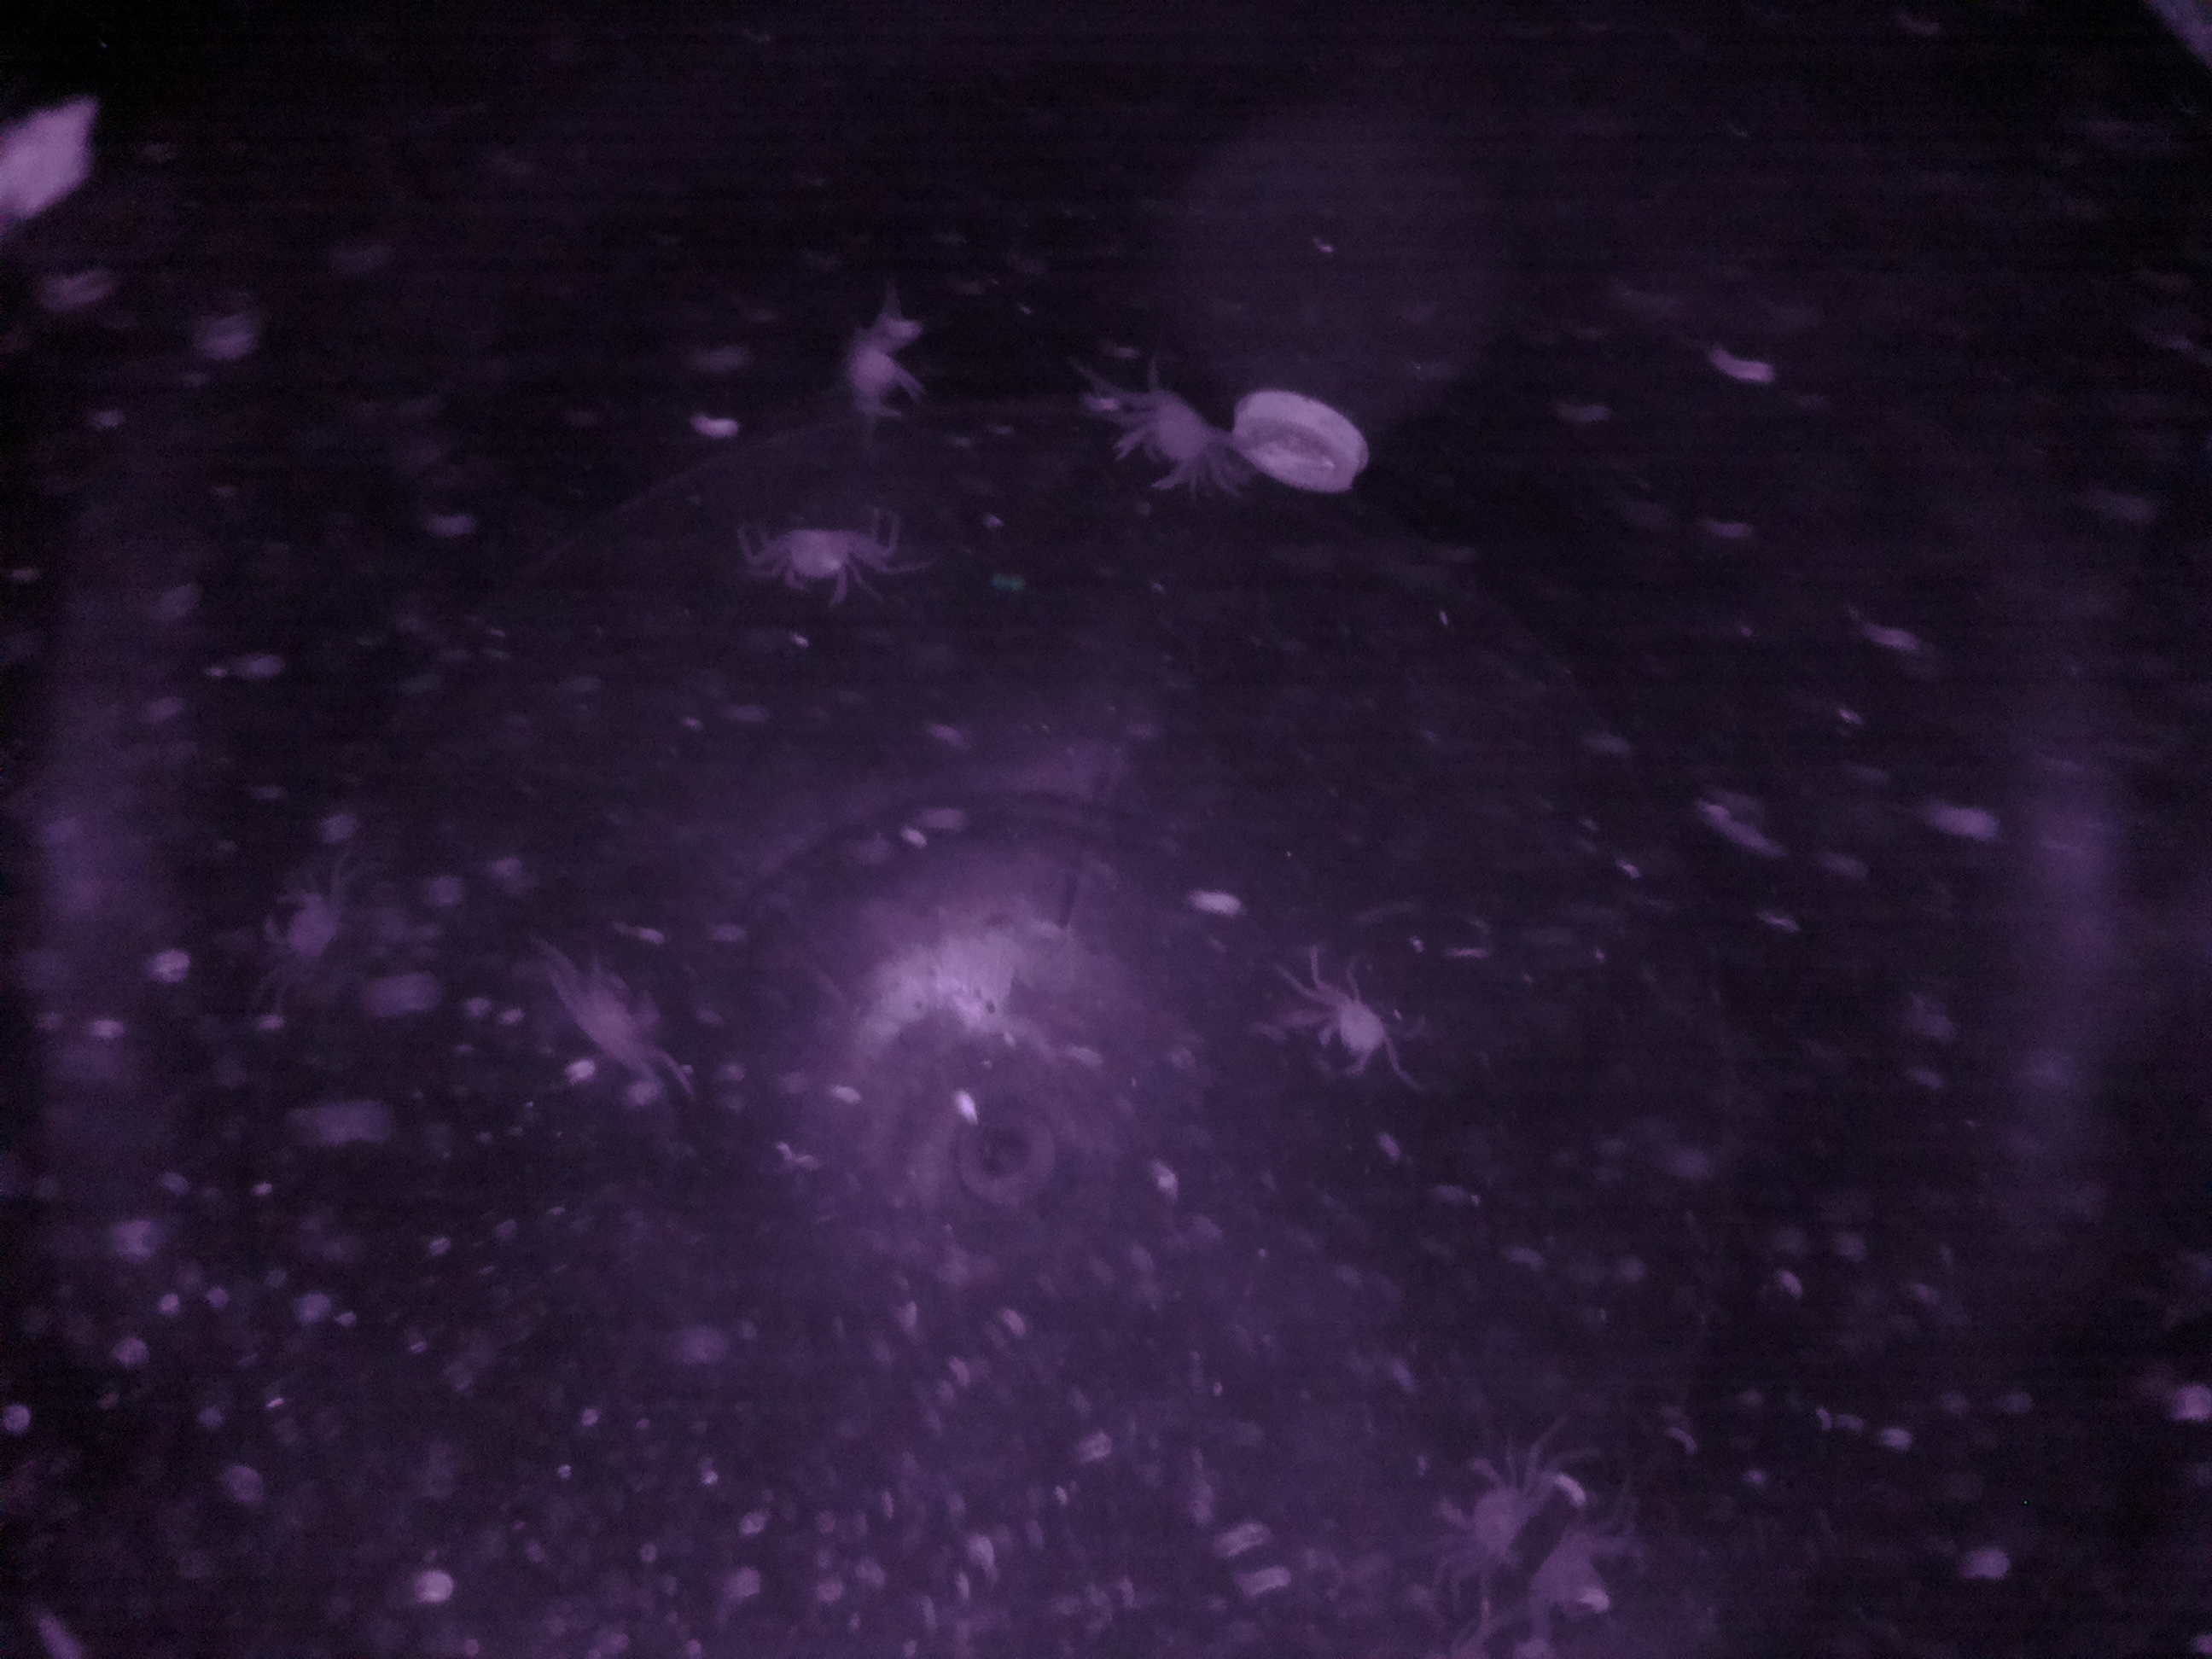Crab: (1101, 373, 1231, 511), (1428, 1443, 1547, 1565), (759, 504, 859, 613), (1312, 976, 1406, 1087)
